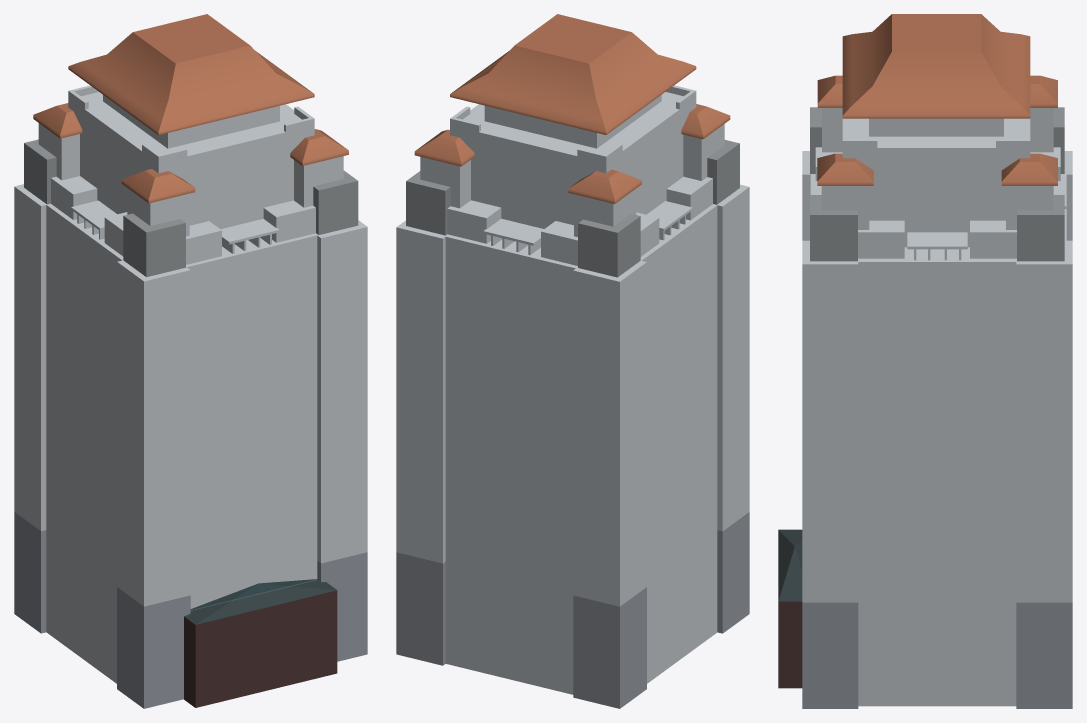
The model's file is 颂恩楼1.fbx.
3 renders of one model, left to right at view 1: azimuth 30°, elevation 25°; view 2: azimuth 150°, elevation 25°; view 3: azimuth 270°, elevation 25°, orthographic. The views are drawn at different scales.
Parts seen in each view (by area): view 1: pCube1, pCube39, pCube44, pCube20, pCube18, pCube42, pCube46, pCube5, pCube43, pCube19, pCube2, pCube22 (+13 smaller); view 2: pCube1, pCube46, pCube45, pCube20, pCube18, pCube39, pCube4, pCube19, pCube3, pCube23, pCube33 (×2), pCube15 (+11 smaller); view 3: pCube1, pCube45, pCube44, pCube20, pCube18, pCube42, pCube2, pCube3, pCube19, pCube43, pCube6, pCube7 (+14 smaller).
Part boxes in pixels (x1,y1,x2,y2): pCube1: (22,187,317,683); pCube39: (117,260,190,708); pCube44: (316,220,367,661); pCube20: (68,14,314,135); pCube18: (75,92,301,229); pCube42: (184,580,337,707); pCube46: (14,184,46,633); pCube5: (123,213,185,277); pCube43: (184,579,336,624); pCube19: (103,95,279,148); pCube2: (313,170,358,234); pCube22: (263,200,315,242); pCube1: (404,204,717,694); pCube46: (573,261,646,708); pCube45: (396,220,445,665); pCube20: (450,14,696,134); pCube18: (463,92,694,228); pCube39: (713,184,749,633); pCube4: (578,214,640,277); pCube19: (484,95,661,148); pCube3: (406,171,450,235); pCube23: (447,200,501,243); pCube33 (×2): (483,201,692,245); pCube15: (568,169,641,203); pCube1: (810,174,1066,706); pCube45: (1016,240,1072,708); pCube44: (802,240,858,708); pCube20: (842,14,1030,118); pCube18: (842,118,1030,247); pCube42: (778,530,802,688); pCube2: (810,195,857,261); pCube3: (1017,195,1064,261); pCube19: (869,118,1003,136); pCube43: (778,529,802,601); pCube6: (858,220,904,258); pCube7: (970,220,1016,258).
Bounding box in the file's own units: 12.28 × 31.26 × 13.44.
